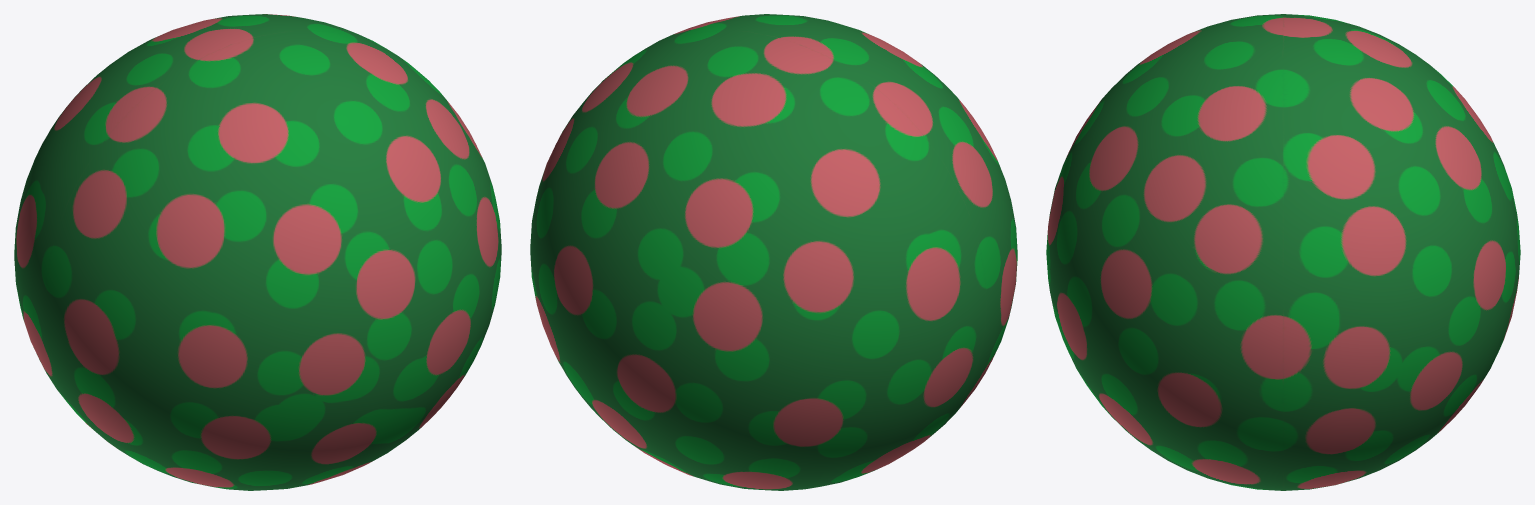
The model's file is Food.fbx.
The picture shows the model from 3 angles, left to right: view 1: azimuth 30°, elevation 25°; view 2: azimuth 150°, elevation 25°; view 3: azimuth 270°, elevation 25°; orthographic projection.
Parts seen in each view (by area): view 1: root; view 2: root; view 3: root.
Boxes of the visible parts, box(x1,y1,x2,y2) form: root: box(14, 14, 501, 490); root: box(530, 14, 1017, 490); root: box(1046, 14, 1520, 490).
Size of the model in its own units: 0.6981 by 0.677 by 0.677.
Materials: 1 (1 with a texture image).
